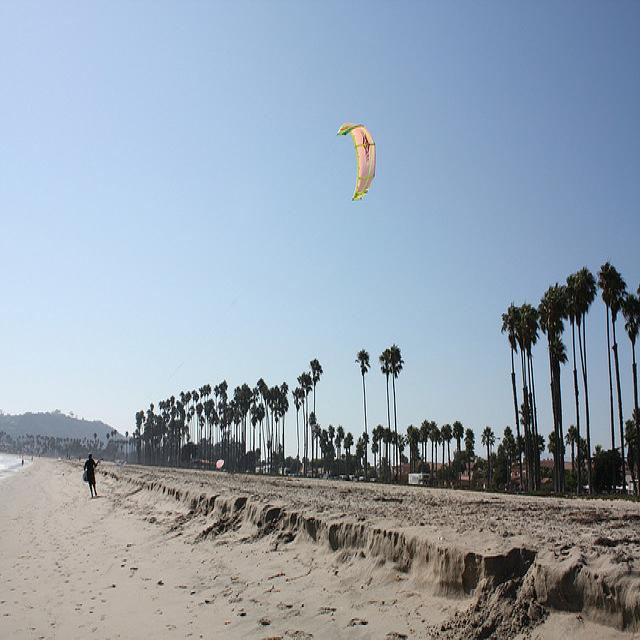Vehicle: (408, 473, 430, 487)
